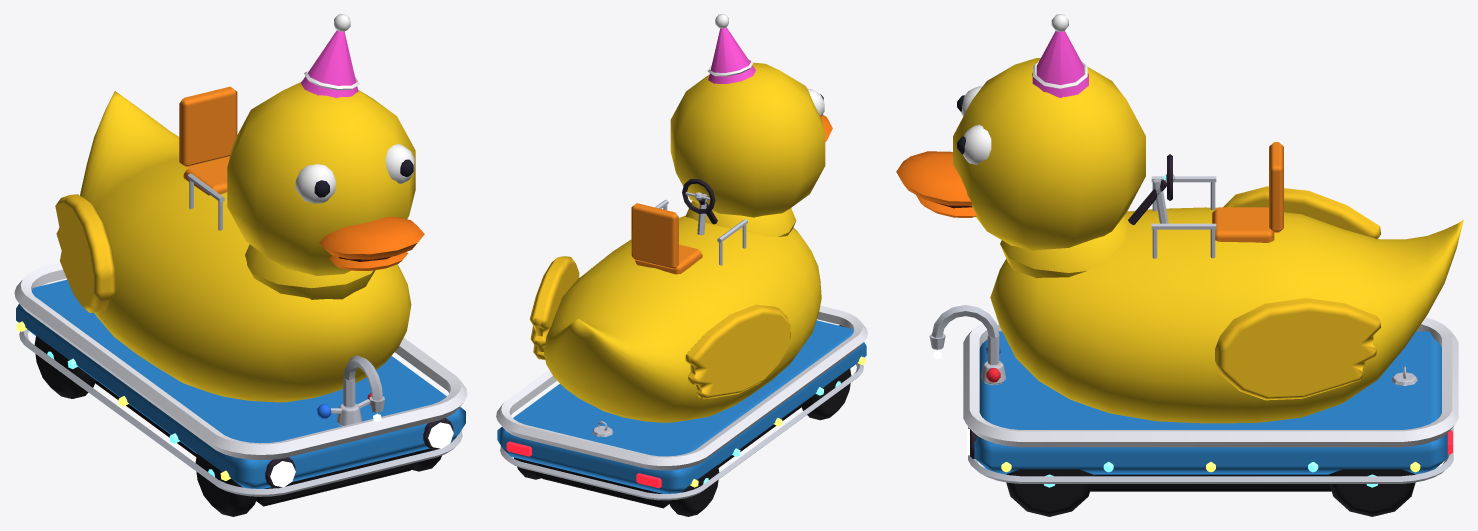
The model's file is quackzilla_lo.glb.
3 views of the same model, side by side, from view 1: azimuth 30°, elevation 25°; view 2: azimuth 150°, elevation 25°; view 3: azimuth 270°, elevation 25° (orthographic). The views are drawn at different scales.
Visible parts, largest first — view 1: duck_body, head_ball, water, tub_lip, wingR_feather, seat_back, tub_strip, bill_upper, neck, hat, chassis, wheel_FR_tyre (+8 smaller); view 2: duck_body, head_ball, water, tub_lip, wingR_feather, seat_back, tub_strip, wingL_feather, neck, hat, chassis, wheel_RR_tyre (+3 smaller); view 3: duck_body, water, head_ball, wingL_feather, tub_lip, tub_strip, neck, wingR_feather, bill_upper, wheel_FL_tyre, wheel_RL_tyre, chassis (+5 smaller).
Boxes of the visible parts, left/top/right/bottom form: duck_body: left=80, top=91, right=411, bottom=402; head_ball: left=227, top=82, right=415, bottom=275; water: left=16, top=279, right=465, bottom=488; tub_lip: left=14, top=262, right=467, bottom=460; wingR_feather: left=55, top=194, right=115, bottom=312; seat_back: left=179, top=86, right=237, bottom=167; tub_strip: left=19, top=329, right=462, bottom=496; bill_upper: left=319, top=217, right=424, bottom=259; neck: left=245, top=244, right=375, bottom=299; hat: left=301, top=30, right=358, bottom=97; chassis: left=95, top=380, right=415, bottom=506; wheel_FR_tyre: left=195, top=453, right=257, bottom=516; duck_body: left=544, top=215, right=821, bottom=422; head_ball: left=670, top=62, right=825, bottom=217; water: left=497, top=320, right=866, bottom=493; tub_lip: left=496, top=305, right=867, bottom=470; wingR_feather: left=685, top=304, right=790, bottom=399; seat_back: left=631, top=203, right=678, bottom=269; tub_strip: left=500, top=363, right=863, bottom=500; wingL_feather: left=529, top=256, right=579, bottom=359; neck: left=685, top=201, right=796, bottom=236; hat: left=708, top=27, right=755, bottom=83; chassis: left=538, top=405, right=801, bottom=508; wheel_RR_tyre: left=668, top=465, right=719, bottom=516; duck_body: left=990, top=207, right=1463, bottom=423; water: left=974, top=331, right=1447, bottom=474; head_ball: left=953, top=58, right=1145, bottom=250; wingL_feather: left=1215, top=298, right=1380, bottom=400; tub_lip: left=963, top=317, right=1458, bottom=447; tub_strip: left=968, top=426, right=1453, bottom=483; neck: left=1000, top=216, right=1130, bottom=278; wingR_feather: left=1223, top=186, right=1380, bottom=238; bill_upper: left=896, top=151, right=972, bottom=205; wheel_FL_tyre: left=1006, top=469, right=1094, bottom=516; wheel_RL_tyre: left=1327, top=469, right=1415, bottom=516; chassis: left=1090, top=474, right=1331, bottom=491.
Size of the model in its own units: 3.02 by 4.78 by 5.28.
